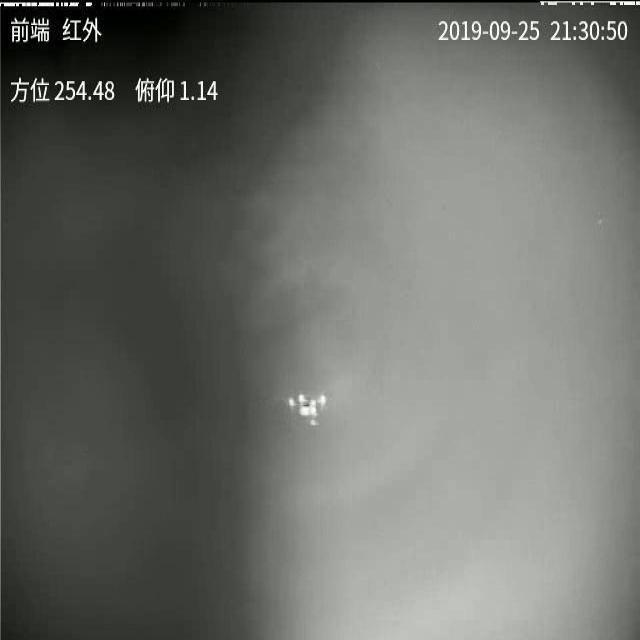drone: (288, 389, 332, 428)
